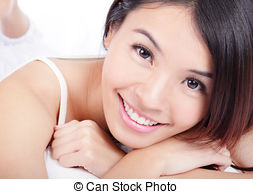face: (97, 1, 227, 153)
